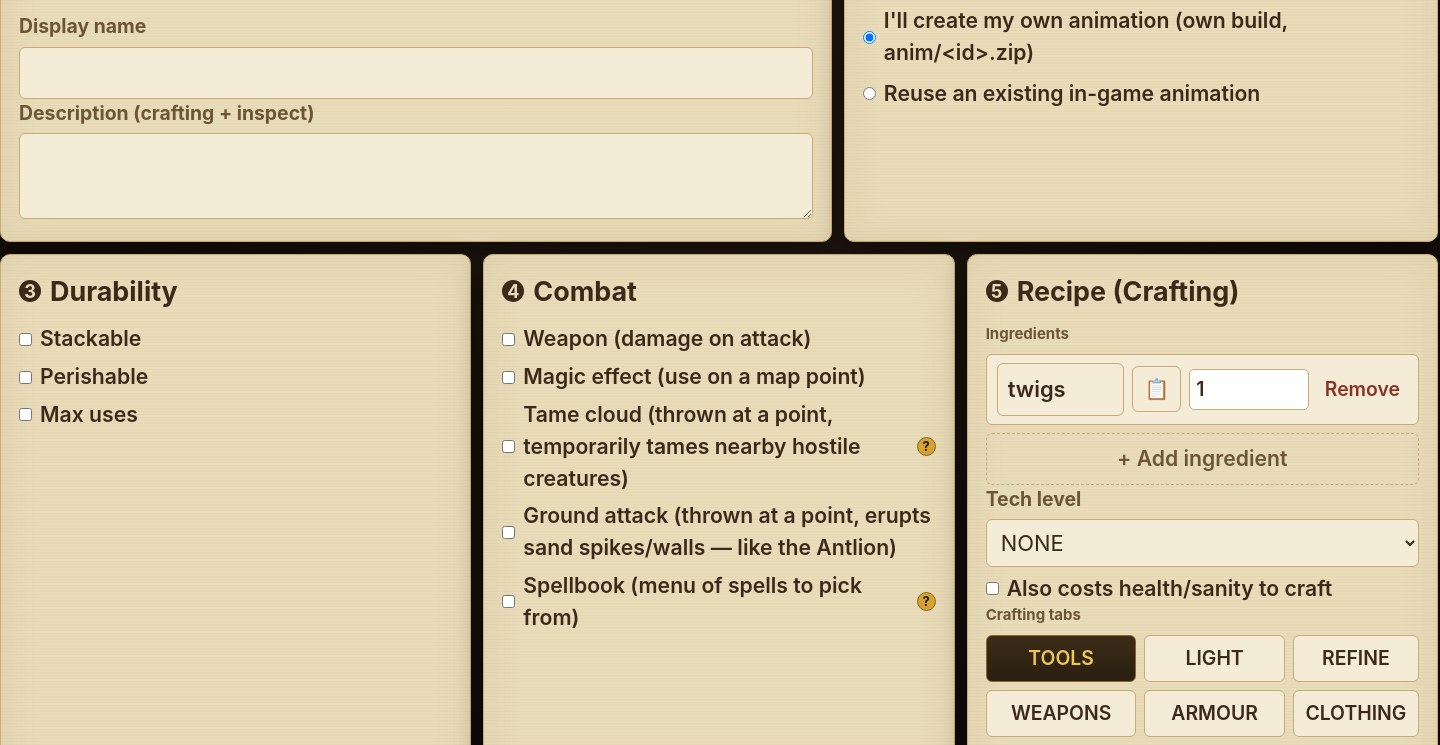
it: ItemForm › the magic effect and tame cloud checkboxes disable each other (same spellcaster slot)
(page scrolled)
Click the text "Magic effect (use on a map point)" at (684, 376), box [502,363,866,389]
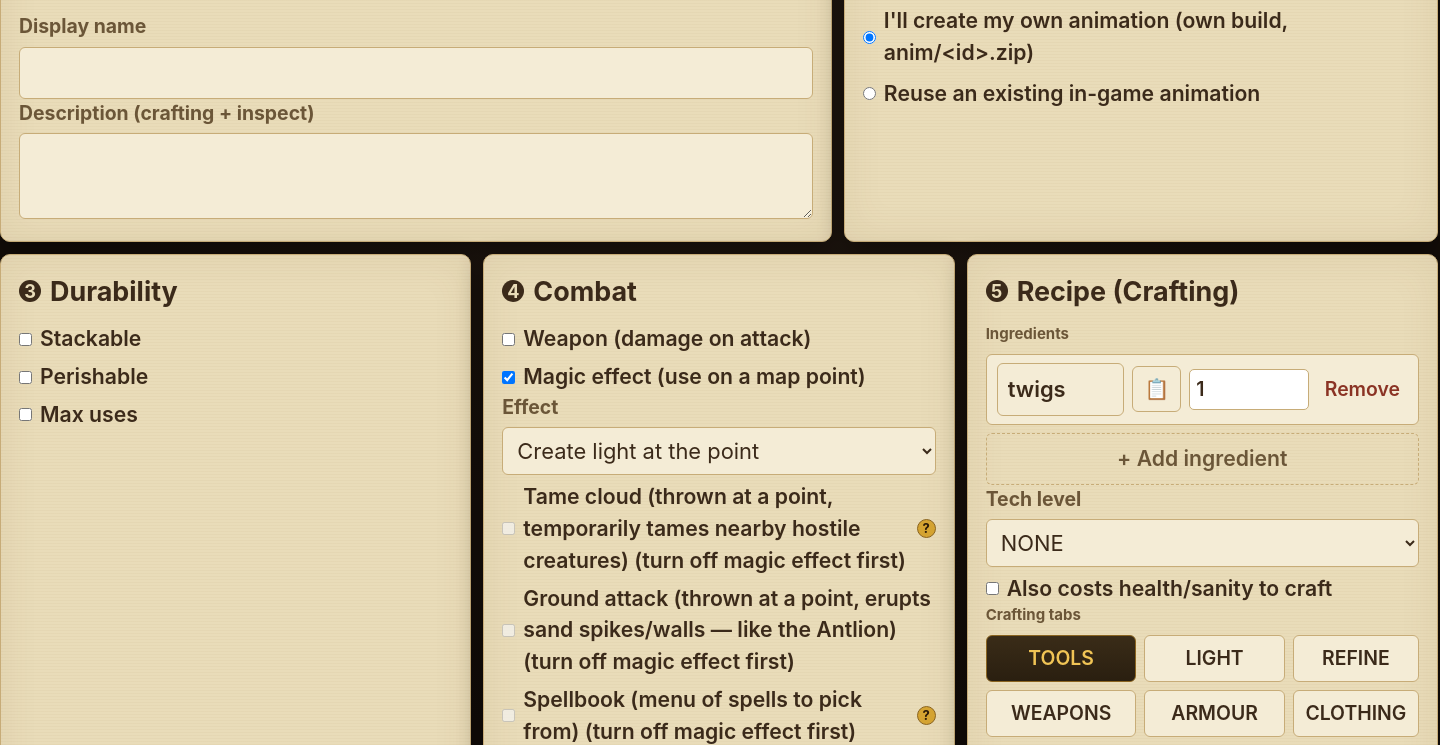
Expected: the checkbox labelled "Tame cloud" is disabled, [502,522,515,535]
Click the text "Magic effect (use on a map point)" at (684, 376), box [502,363,866,389]
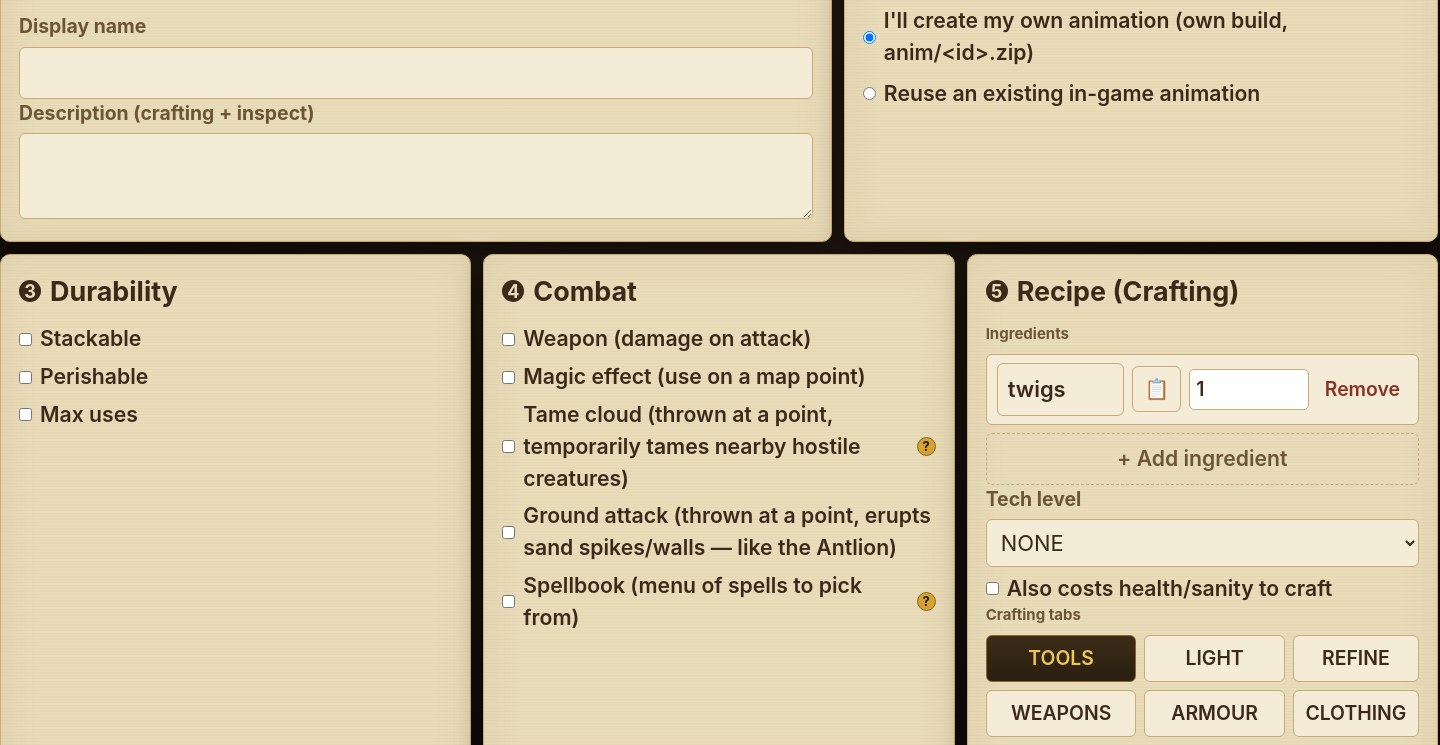
Expected: the checkbox labelled "Tame cloud" is enabled, [502,440,515,453]
Click the text "Tame cloud (thrown at a point, temporarily tames nearby hostile creatures)" at (719, 447), box [502,399,936,494]
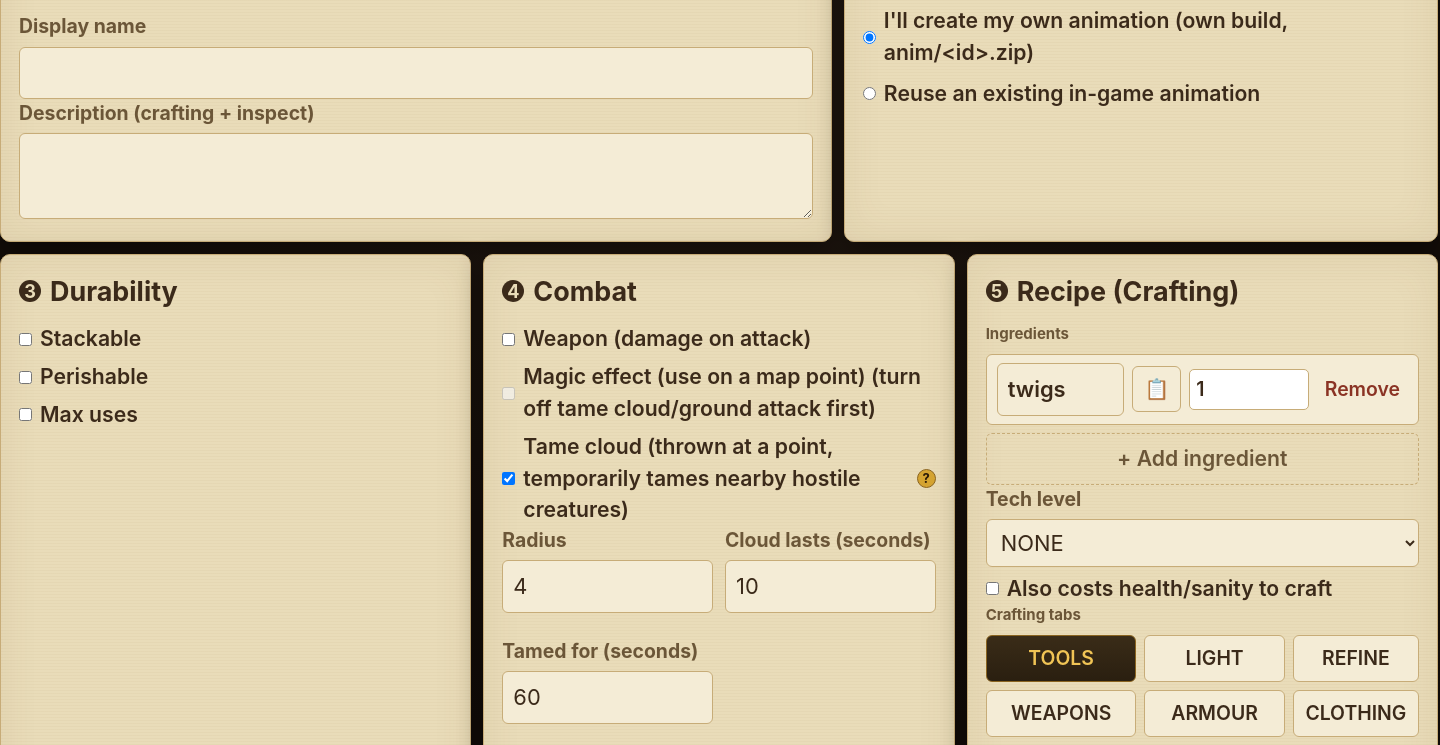
Expected: the checkbox labelled "Magic effect (use on a map point)" is disabled, [502,386,515,400]
